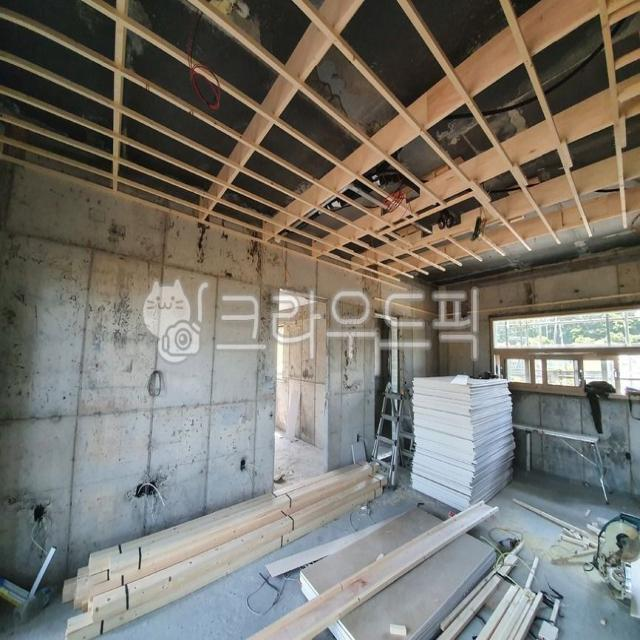stud: (0, 0, 640, 282)
wood: (66, 485, 383, 640), (92, 473, 387, 621), (245, 500, 499, 640), (109, 461, 379, 578), (88, 462, 364, 576), (440, 542, 524, 631), (436, 555, 518, 640), (475, 584, 519, 640), (488, 589, 524, 640), (514, 591, 542, 640), (507, 598, 533, 640)
